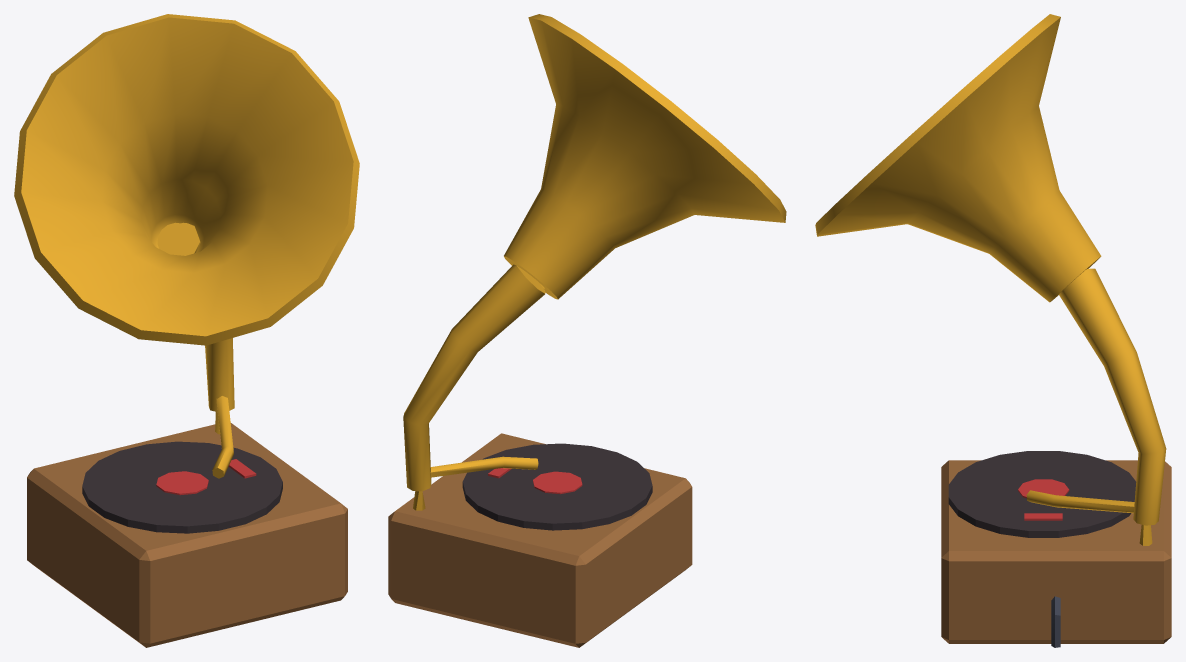
Rendered from gramophone.glb.
3 renders of one model, left to right at view 1: azimuth 30°, elevation 25°; view 2: azimuth 150°, elevation 25°; view 3: azimuth 270°, elevation 25°, orthographic. The views are drawn at different scales.
Visible parts, largest first — view 1: Gramophone horn, Gramophone box, Gramophone record, Gramophone neck, Gramophone label, Gramophone arm; view 2: Gramophone horn, Gramophone box, Gramophone record, Gramophone neck, Gramophone arm, Gramophone label; view 3: Gramophone horn, Gramophone box, Gramophone record, Gramophone neck, Gramophone arm, Gramophone label.
Boxes of the visible parts, <box> form: Gramophone horn: <box>14,14,359,345</box>; Gramophone box: <box>27,423,347,647</box>; Gramophone record: <box>82,441,282,533</box>; Gramophone neck: <box>157,222,234,411</box>; Gramophone label: <box>156,459,256,495</box>; Gramophone arm: <box>212,396,233,478</box>; Gramophone horn: <box>504,14,786,299</box>; Gramophone box: <box>388,433,692,647</box>; Gramophone record: <box>462,443,652,530</box>; Gramophone neck: <box>403,264,545,491</box>; Gramophone arm: <box>413,456,538,510</box>; Gramophone label: <box>488,468,582,494</box>; Gramophone horn: <box>815,14,1101,302</box>; Gramophone box: <box>941,460,1171,643</box>; Gramophone record: <box>948,451,1136,537</box>; Gramophone neck: <box>1059,268,1166,525</box>; Gramophone arm: <box>1026,490,1152,545</box>; Gramophone label: <box>1018,479,1069,520</box>.
Bounding box in the file's own units: 0.5969 × 0.9592 × 0.5567.
